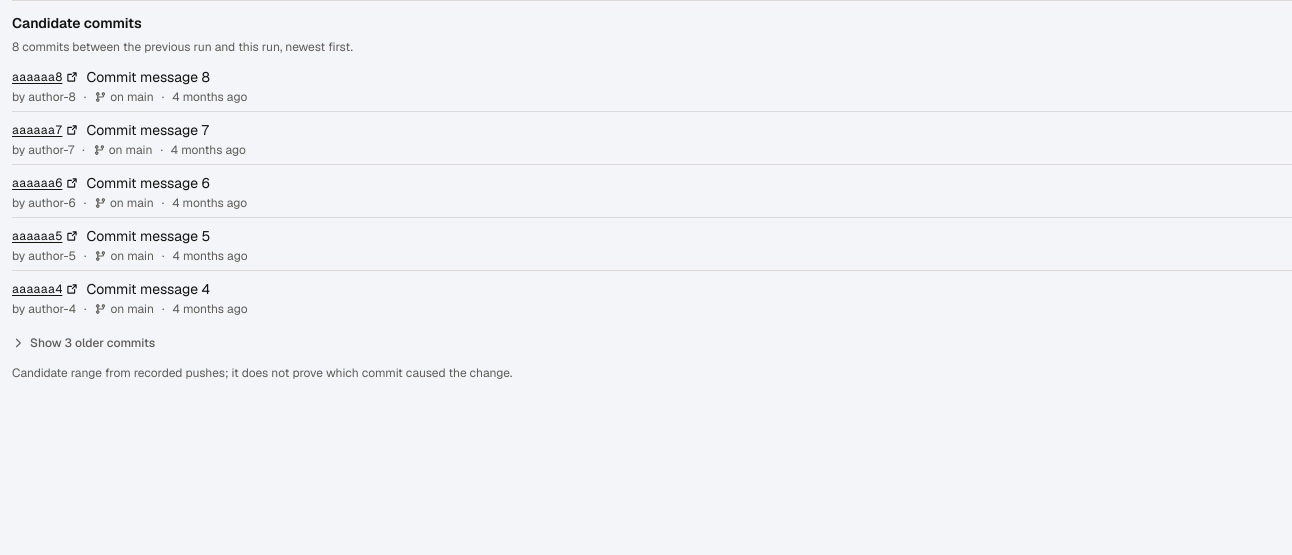
Test: CommitRangeBlock disclosure › reveals the older commits after the newest ones and collapses them again
Click the button "Show 3 older commits". click: (84, 343)
box: [12, 327, 155, 359]
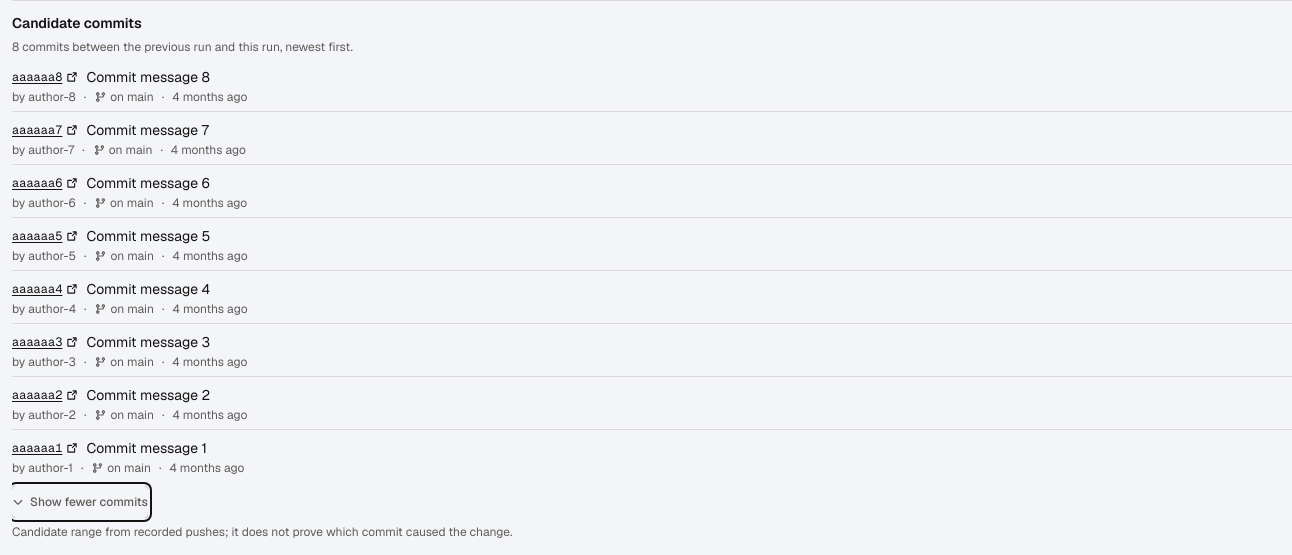
Check: the number of list items is 8
Check: the 6th list item shows "Commit message 3", box [86, 333, 210, 351]
Check: the 8th list item shows "Commit message 1", box [86, 439, 207, 457]
Click the button "Show fewer commits". click: (80, 502)
box: [12, 486, 148, 518]
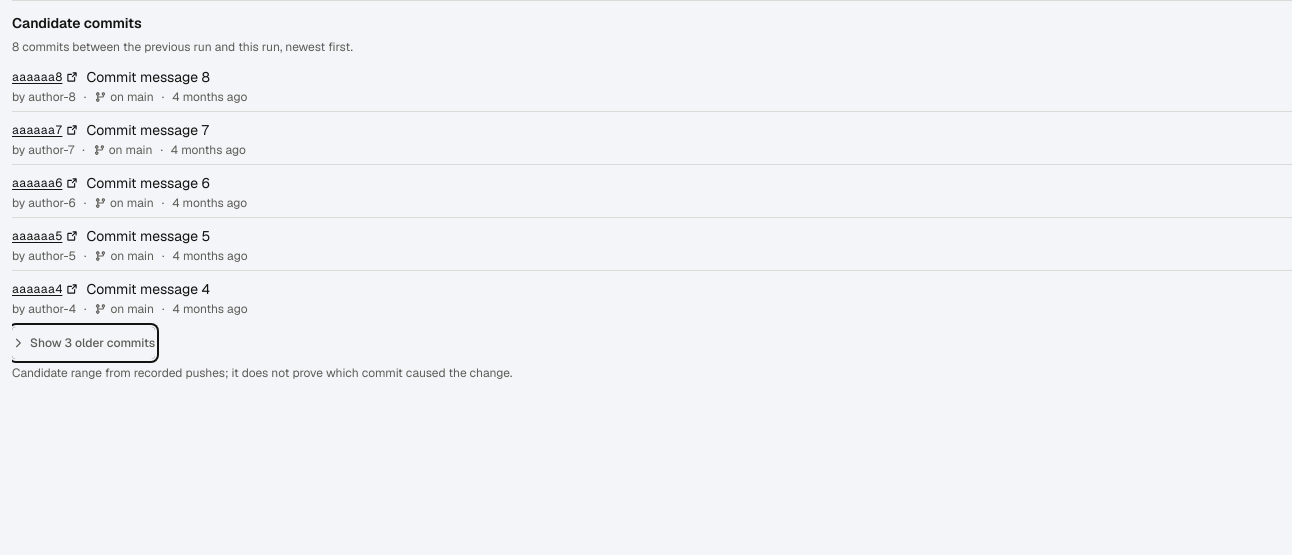
Check: the number of list items is 5, box [12, 59, 1291, 112]; [12, 112, 1291, 165]; [12, 165, 1291, 218]; [12, 218, 1291, 271]; [12, 280, 248, 317]
Check: the text "Commit message 3" is gone
Check: the button "Show 3 older commits" is collapsed, box [12, 327, 155, 359]
